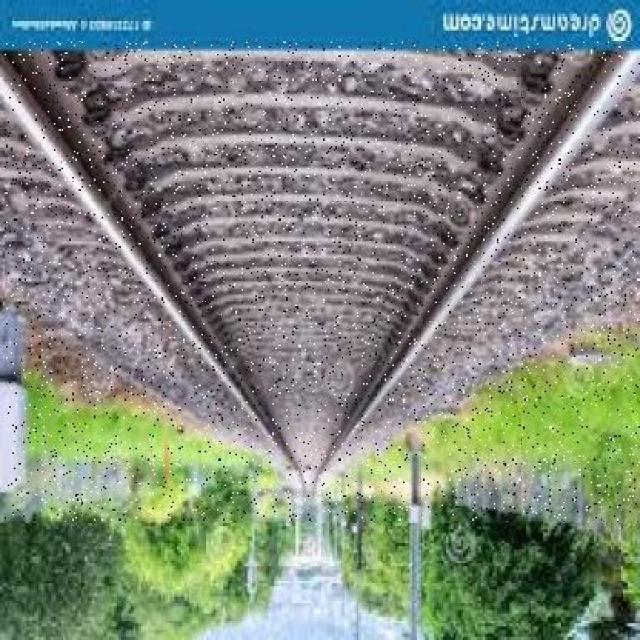rail: (5, 40, 640, 521)
